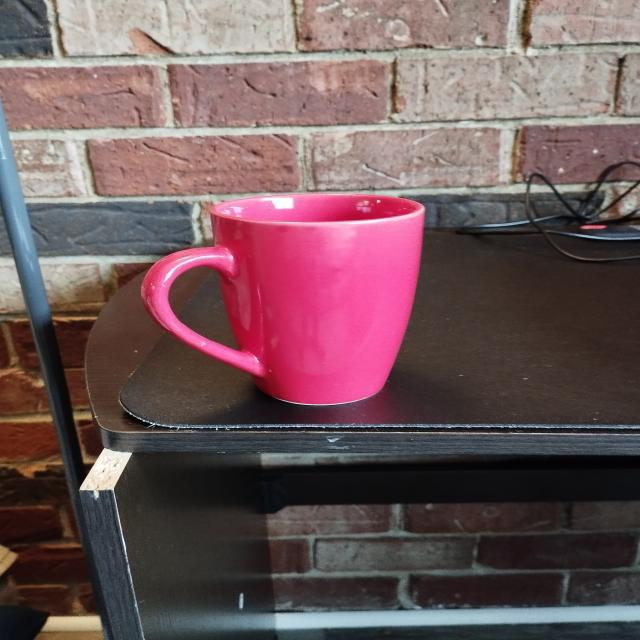Cup: (126, 160, 450, 414)
